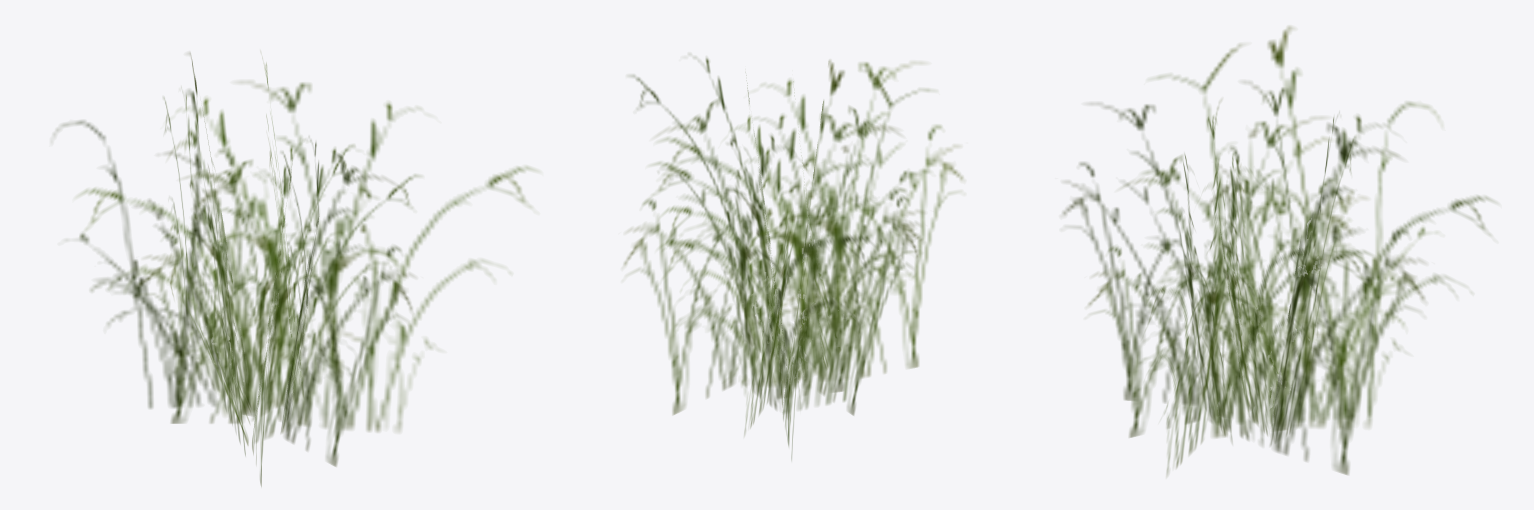
Rendered from grass_tall_low.glb.
3 renders of one model, left to right at view 1: azimuth 30°, elevation 25°; view 2: azimuth 150°, elevation 25°; view 3: azimuth 270°, elevation 25°, orthographic. The views are drawn at different scales.
Parts seen in each view (by area): view 1: Grass tall low; view 2: Grass tall low; view 3: Grass tall low.
Boxes of the visible parts, left/top/right/bottom form: Grass tall low: left=54, top=53, right=533, bottom=486; Grass tall low: left=624, top=57, right=962, bottom=459; Grass tall low: left=1063, top=26, right=1492, bottom=474.
Bounding box in the file's own units: 0.5065 × 0.496 × 0.5364.
1 material, 1 textured.
